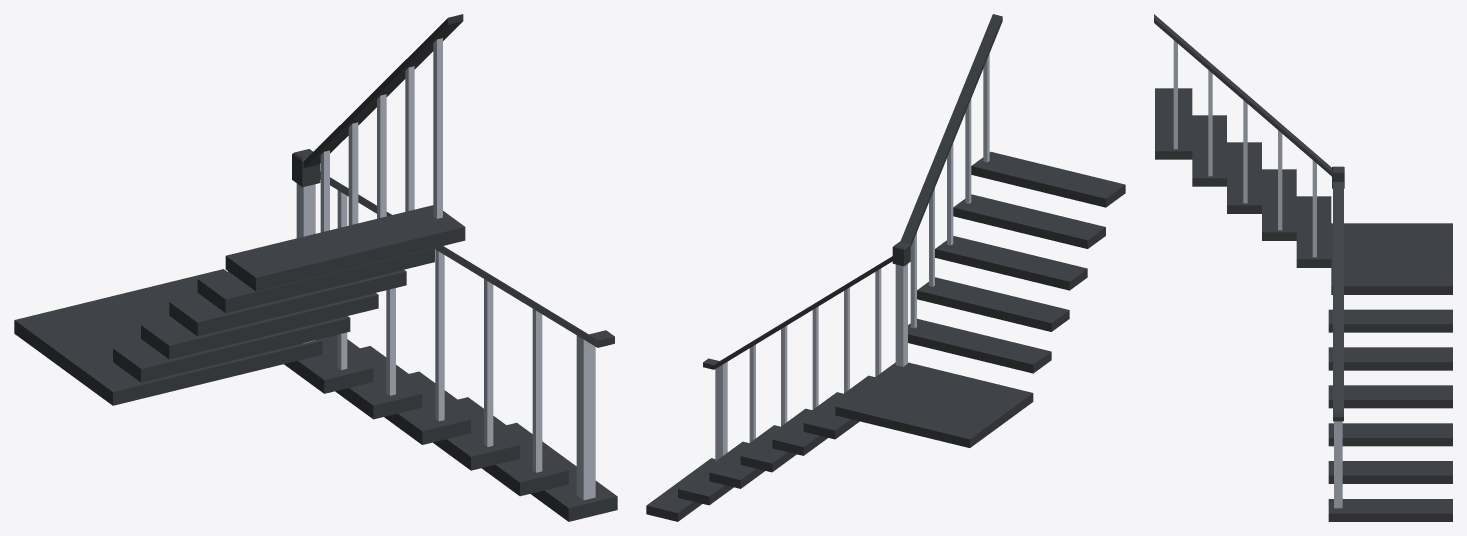
File: Stairs2_C5.fbx
3 renders of one model, left to right at view 1: azimuth 30°, elevation 25°; view 2: azimuth 150°, elevation 25°; view 3: azimuth 270°, elevation 25°, orthographic. The views are drawn at different scales.
Visible parts, largest first — view 1: Stairs2_C5; view 2: Stairs2_C5; view 3: Stairs2_C5.
Boxes of the visible parts, x1,y1,x2,y2 form: Stairs2_C5: (14,14,617,521); Stairs2_C5: (646,14,1125,521); Stairs2_C5: (1154,14,1452,521).
Bounding box in the file's own units: 301 × 384 × 251.
